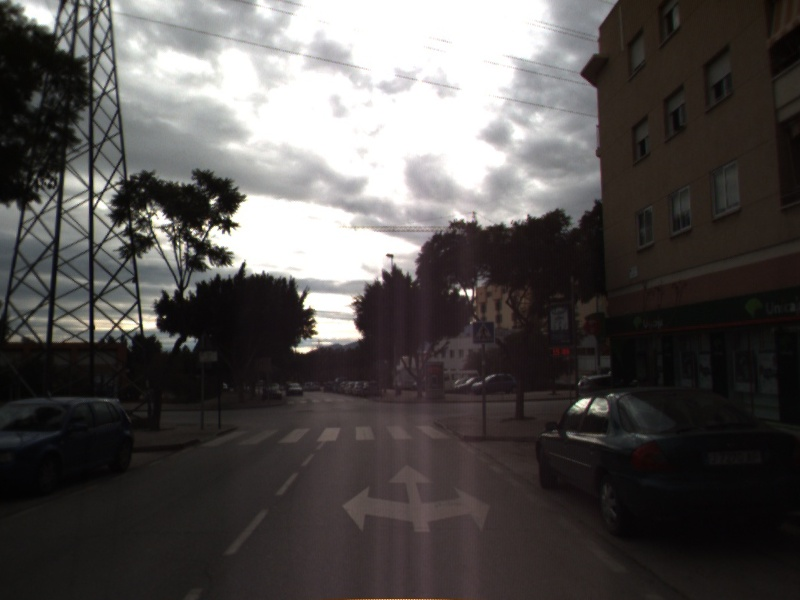STRAIGHT_LEFT_RIGHT: (339, 463, 493, 535)
